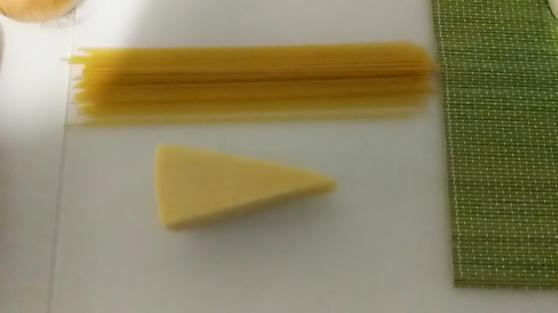cheese: (146, 137, 349, 230)
spaghetti: (54, 31, 459, 137)
